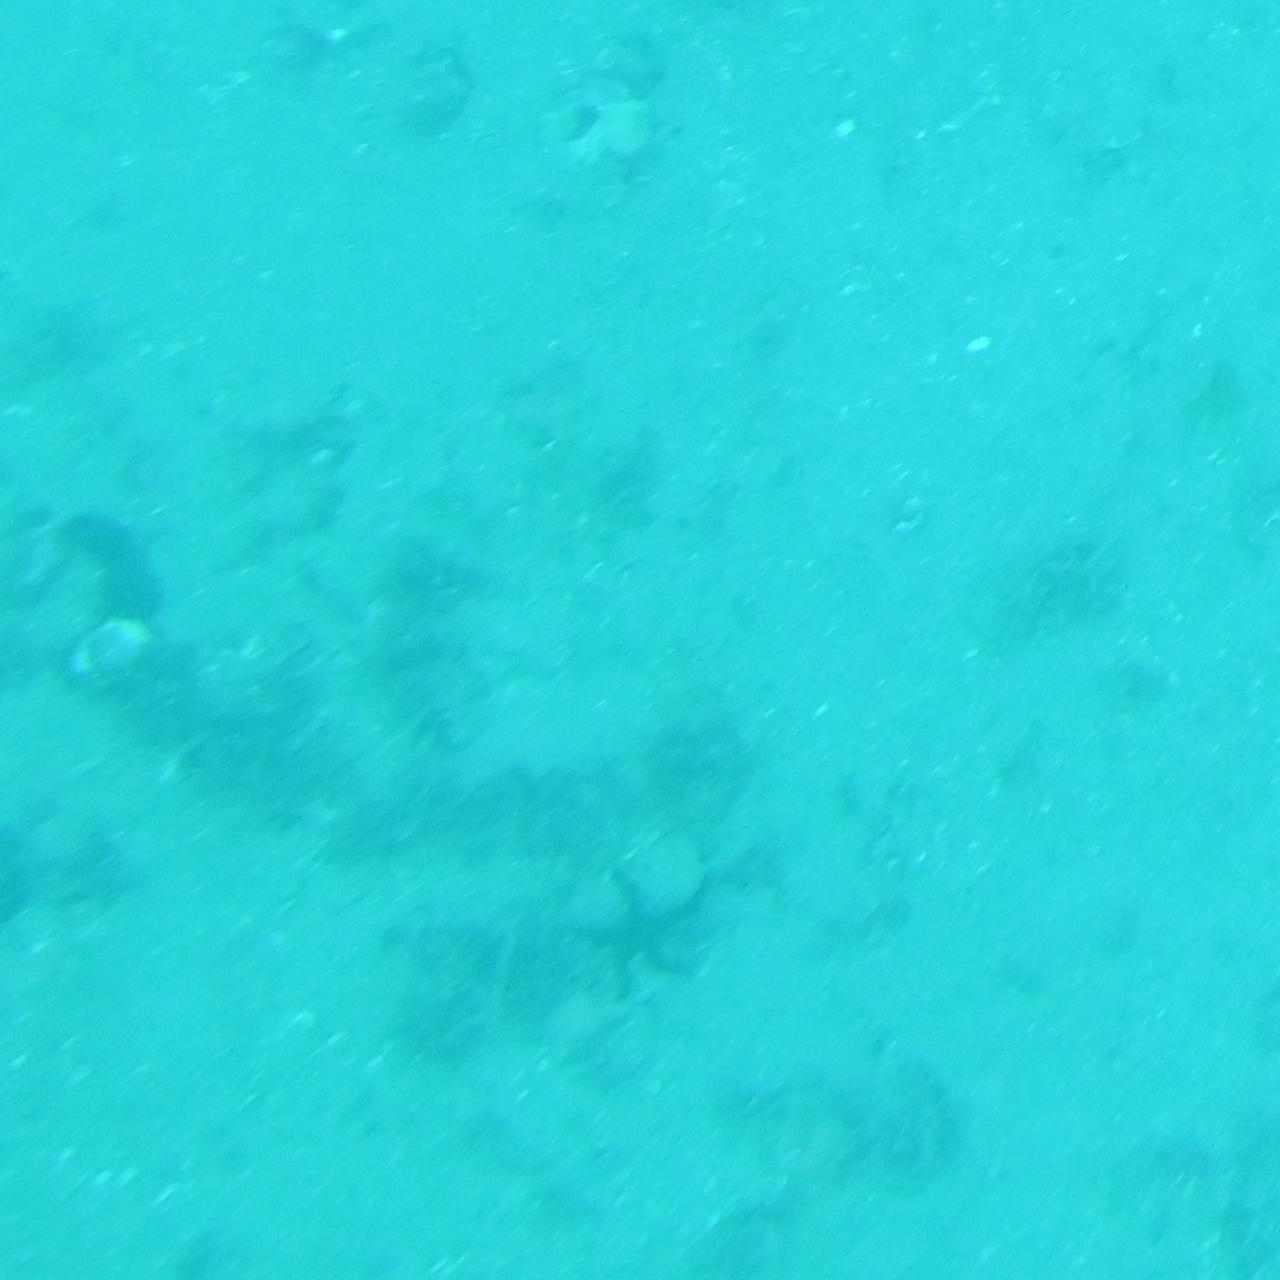Asteroidea: (563, 845, 717, 1008)
